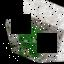Morning glory: (2, 7, 64, 64)
